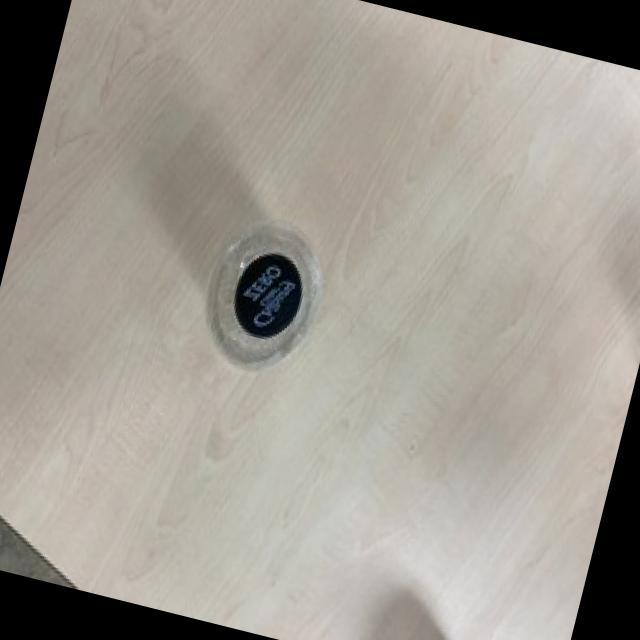good: (182, 198, 344, 390)
